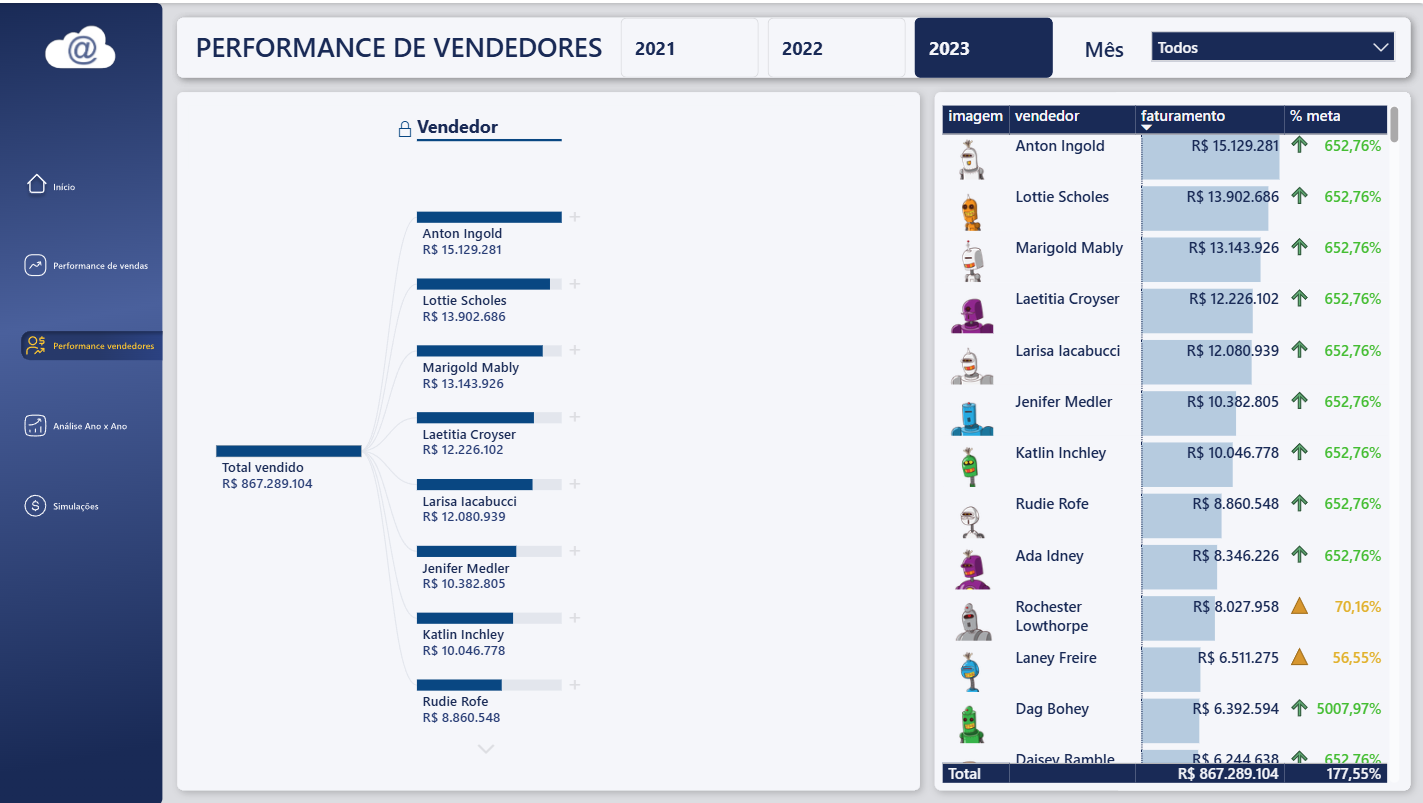

The dashboard page shown, as its layout file describes it:
{"tool":"powerbi","page":{"name":"vendedores","canvas":[1280,720],"ordinal":2},"visuals":[{"type":"advancedSlicerVisual","fields":{"Values":["dCalendario.Data.Variation.Hierarquia de datas.Ano"]},"box":[553.1,7.9,399.8,64.8],"z":0},{"type":"slicer","fields":{"Values":["dCalendario.Nome do Mês"]},"box":[1024,15,239,51],"z":1000},{"type":"textbox","box":[171.2,16.7,433.8,47.4],"z":2000},{"type":"textbox","box":[970,23,69,35],"z":3000},{"type":"decompositionTreeVisual","fields":{"Analyze":["Medidas.Total vendido"],"ExplainBy":["dVendedores.nome","dProdutos.product_category_name"]},"box":[165.1,86.9,644.5,608.5],"z":4000},{"type":"tableEx","fields":{"Values":["dVendedores.avatar","dVendedores.nome","Medidas.Total vendido","Medidas.% Atingimento da meta"]},"box":[841.2,86.9,421.5,618.1],"z":5000},{"type":"pageNavigator","box":[0,137.5,151.3,349.7],"z":5001}]}

Visuals, with their boxes on the page's 1280x720 design canvas (x1, y1, x2, y2). These are canvas units, not pixel positions in the 1423x803 screenshot, which may show the page scaled, cropped or inside an application window:
advancedSlicerVisual - dCalendario.Data.Variation.Hierarquia de datas.Ano: detection(553, 8, 953, 73)
slicer - dCalendario.Nome do Mês: detection(1024, 15, 1263, 66)
textbox: detection(171, 17, 605, 64)
textbox: detection(970, 23, 1039, 58)
decompositionTreeVisual - Medidas.Total vendido x dVendedores.nome: detection(165, 87, 810, 695)
tableEx - dVendedores.avatar x dVendedores.nome: detection(841, 87, 1263, 705)
pageNavigator: detection(0, 138, 151, 487)
